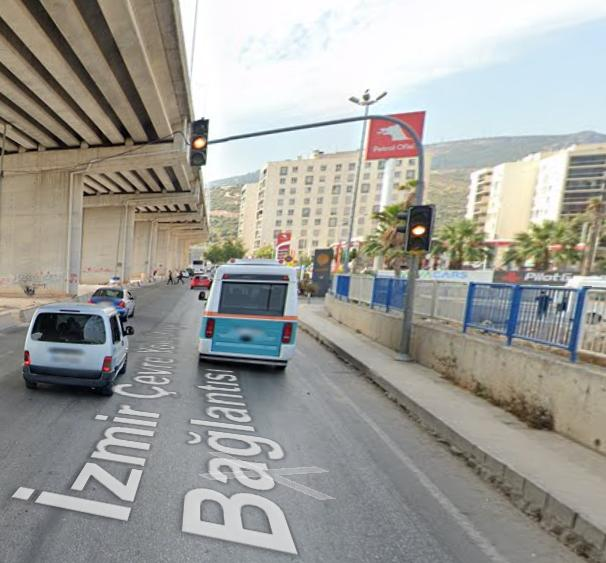yellowlight: (409, 207, 433, 250), (192, 117, 209, 166)
